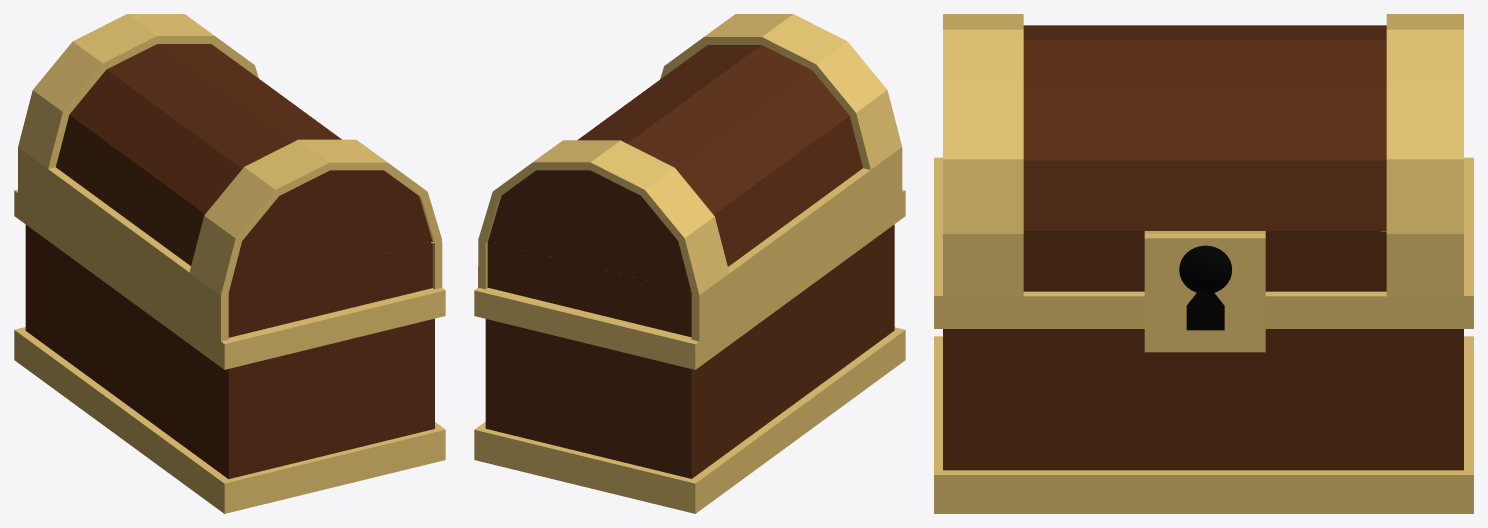
File: Chest Closed.fbx
The picture shows the model from 3 angles, left to right: view 1: azimuth 30°, elevation 25°; view 2: azimuth 150°, elevation 25°; view 3: azimuth 270°, elevation 25°; orthographic projection. The views are drawn at different scales.
Visible parts, largest first — view 1: Chest Closed; view 2: Chest Closed; view 3: Chest Closed.
Part boxes in pixels (x1,y1,x2,y2): Chest Closed: [14, 14, 445, 513]; Chest Closed: [474, 14, 905, 513]; Chest Closed: [934, 14, 1473, 513].
Bounding box in the file's own units: 92.24 × 124 × 146.
